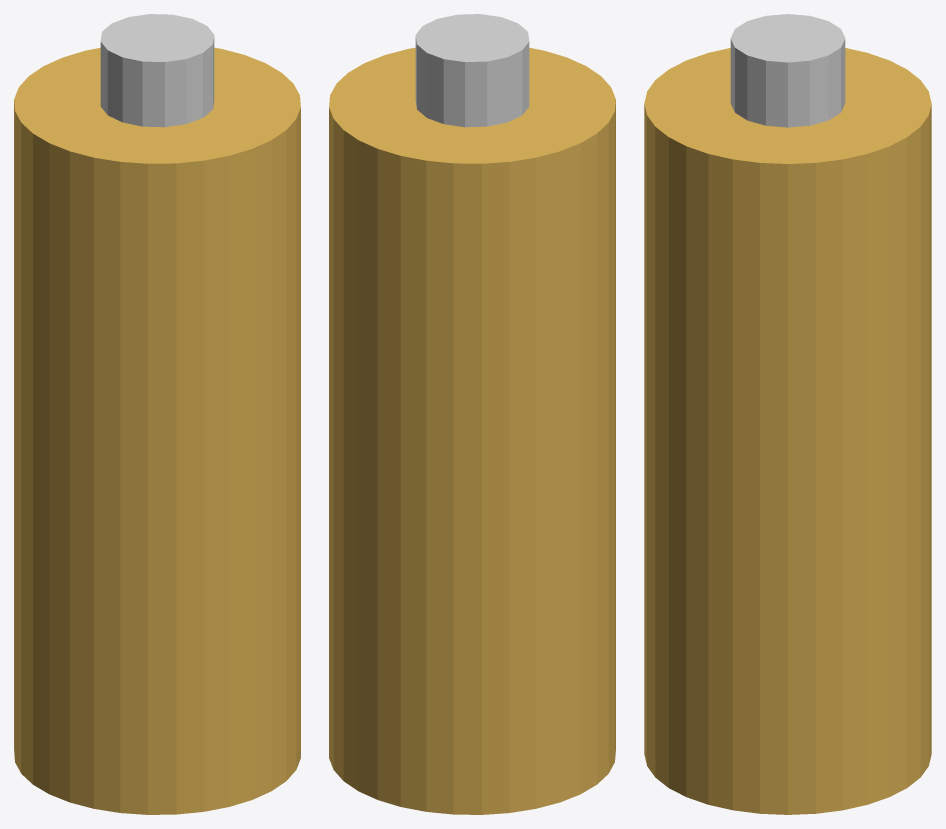
File: aa_battery.glb
The picture shows the model from 3 angles, left to right: view 1: azimuth 30°, elevation 25°; view 2: azimuth 150°, elevation 25°; view 3: azimuth 270°, elevation 25°; orthographic projection.
Visible parts, largest first — view 1: AA_Battery, Terminal; view 2: AA_Battery, Terminal; view 3: AA_Battery, Terminal.
Part boxes in pixels (bbox=[...]): AA_Battery: bbox=[14, 47, 300, 814]; Terminal: bbox=[100, 14, 214, 127]; AA_Battery: bbox=[329, 47, 615, 814]; Terminal: bbox=[415, 14, 529, 127]; AA_Battery: bbox=[644, 48, 931, 814]; Terminal: bbox=[730, 14, 845, 127].
Size of the model in its own units: 0.4 by 1.1 by 0.4.
